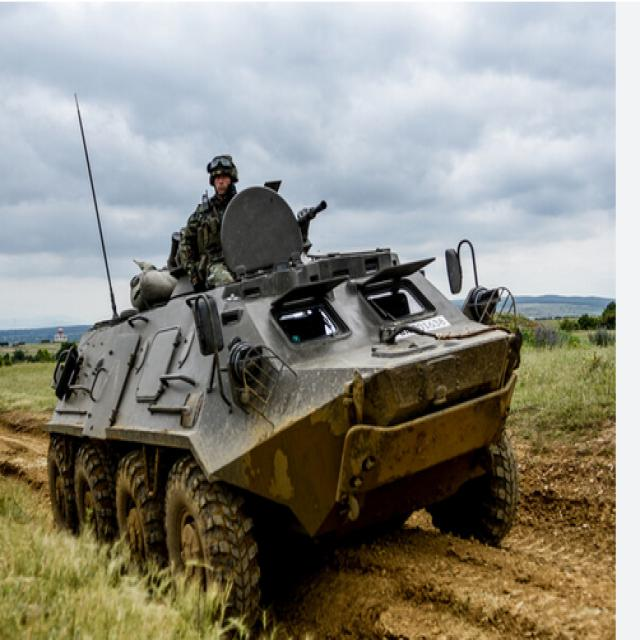MIL_APC: (37, 190, 546, 626)
